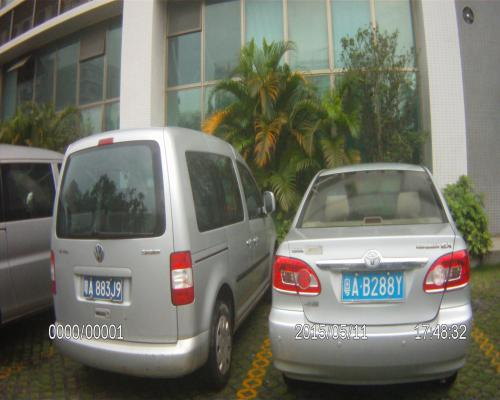Carplate: (335, 265, 410, 303), (77, 270, 128, 303)
